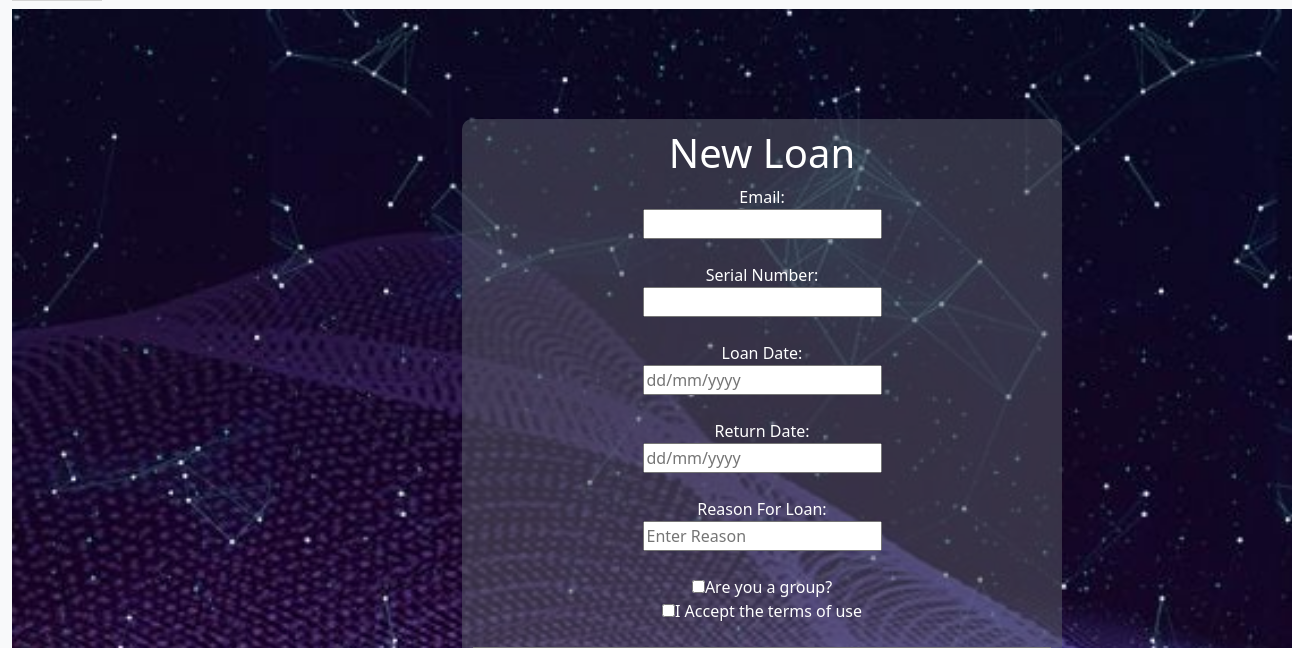
Test case: checks the checkbox and enables the button when clicked
Simulate checkbox click
What coordinates should you click on to do the following:
click the checkbox labelled "I Accept the terms of use"
I would click on:
 (668, 610)
Its box is 662,604 -> 675,617.
(page scrolled)
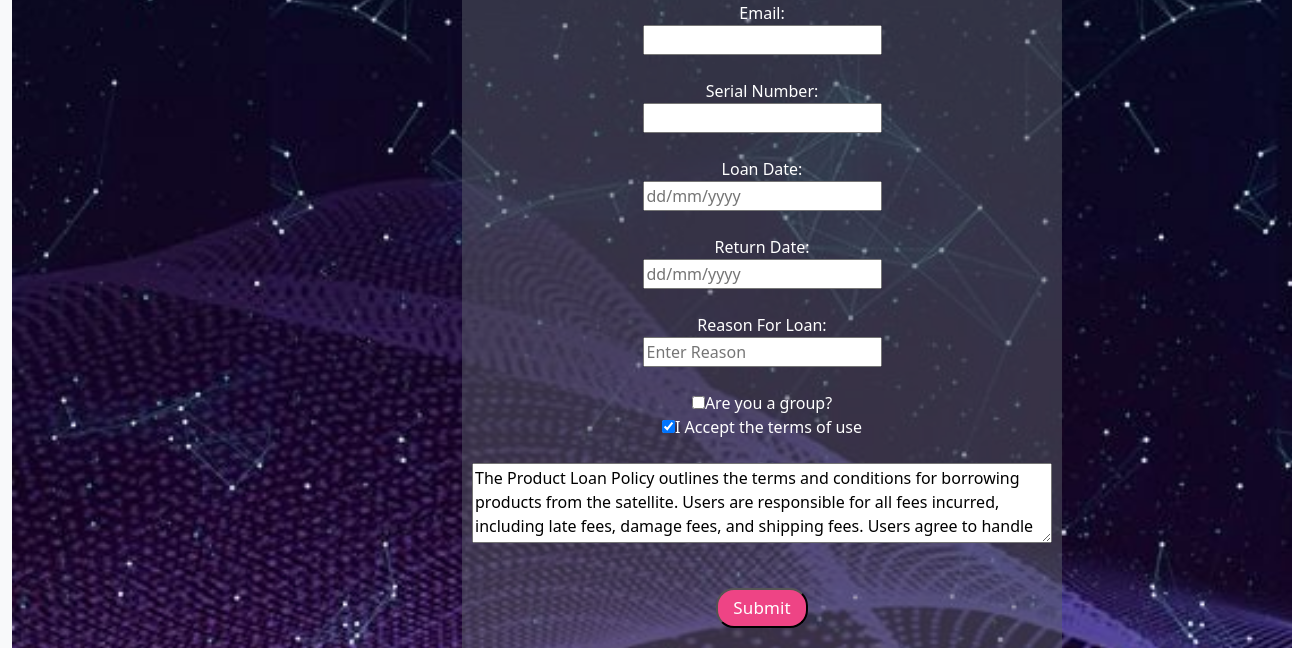
Now the checkbox labelled "I Accept the terms of use" is checked, box 662,420 -> 675,433
Now the button "Submit" is enabled, box 716,588 -> 808,628
